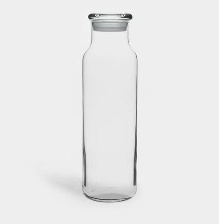bottle: (74, 11, 150, 207)
